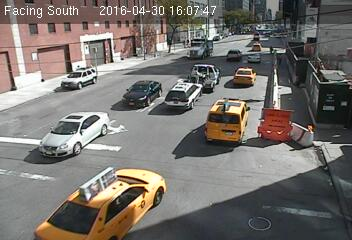neg: (37, 79, 74, 128), (197, 111, 232, 157), (256, 188, 286, 228), (65, 36, 92, 72), (248, 132, 274, 167), (95, 151, 121, 186), (142, 126, 168, 160), (218, 49, 243, 82), (167, 90, 190, 122), (132, 64, 154, 94), (190, 183, 211, 212), (263, 63, 283, 90)
